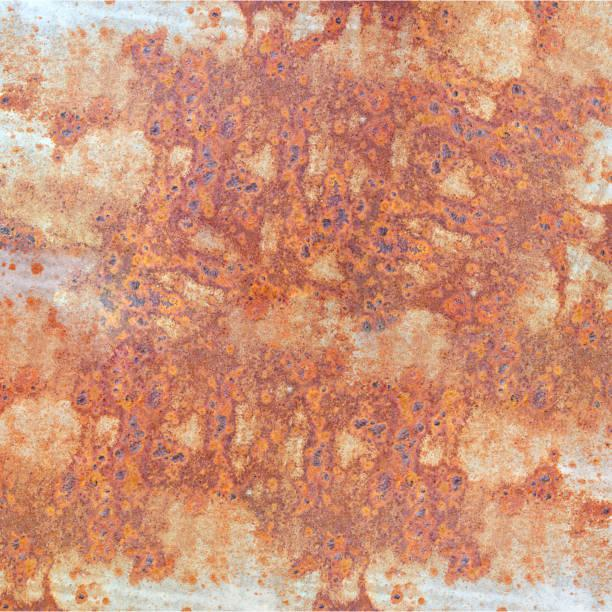Corrosion: (1, 1, 612, 612)
